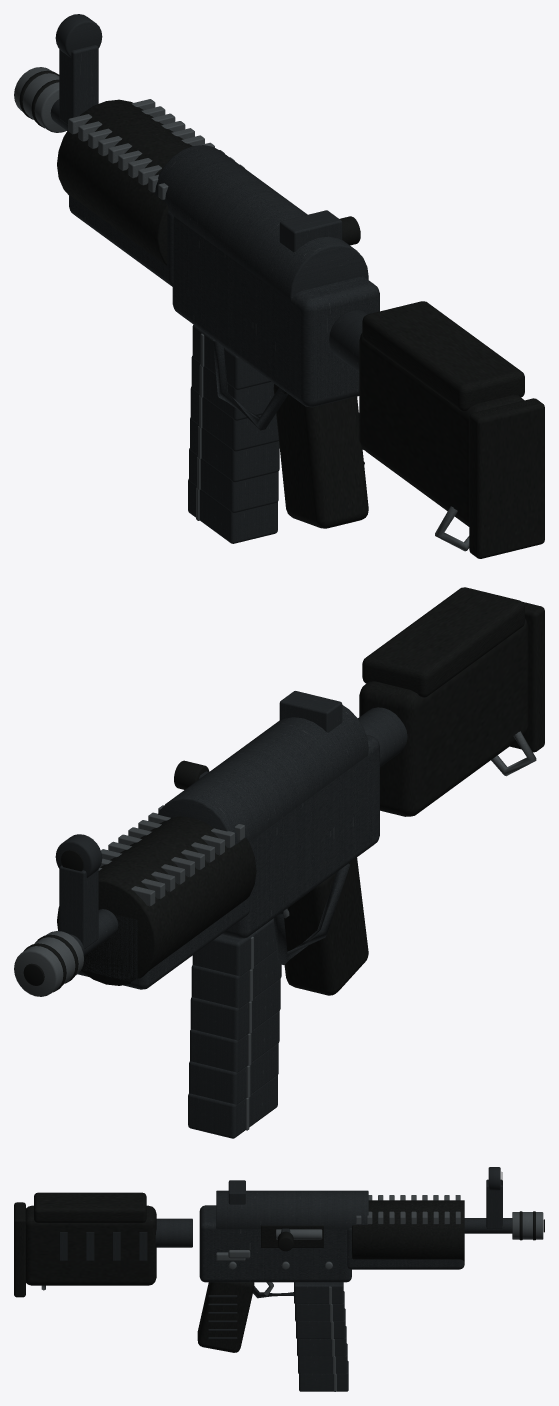
3 views of the same model, one above another, from view 1: azimuth 30°, elevation 25°; view 2: azimuth 150°, elevation 25°; view 3: azimuth 270°, elevation 25° (orthographic). The views are drawn at different scales.
Parts seen in each view (by area): view 1: weapon_Weapon finish / Parkerized steel, weapon_Polymer, weapon_Weapon finish / Polymer, magazine_Parkerized steel, weapon_Parkerized steel, weapon_Machined edges, magazine_Machined edges; view 2: weapon_Weapon finish / Parkerized steel, weapon_Polymer, weapon_Weapon finish / Polymer, magazine_Parkerized steel, weapon_Parkerized steel, weapon_Machined edges, magazine_Machined edges, bolt_Polymer; view 3: weapon_Weapon finish / Parkerized steel, weapon_Weapon finish / Polymer, weapon_Polymer, magazine_Parkerized steel, weapon_Parkerized steel, weapon_Machined edges, bolt_Machined edges, magazine_Machined edges.
Part boxes in pixels (left/top/right/bottom): weapon_Weapon finish / Parkerized steel: left=69, top=145, right=379, bottom=407; weapon_Polymer: left=19, top=70, right=544, bottom=558; weapon_Weapon finish / Polymer: left=359, top=301, right=524, bottom=526; magazine_Parkerized steel: left=188, top=324, right=279, bottom=543; weapon_Parkerized steel: left=50, top=14, right=367, bottom=464; weapon_Machined edges: left=14, top=67, right=469, bottom=551; magazine_Machined edges: left=196, top=333, right=204, bottom=520; weapon_Weapon finish / Parkerized steel: left=78, top=705, right=379, bottom=989; weapon_Polymer: left=23, top=601, right=544, bottom=995; weapon_Weapon finish / Polymer: left=359, top=587, right=528, bottom=816; magazine_Parkerized steel: left=188, top=918, right=281, bottom=1138; weapon_Parkerized steel: left=55, top=691, right=407, bottom=964; weapon_Machined edges: left=14, top=731, right=536, bottom=996; magazine_Machined edges: left=246, top=936, right=253, bottom=1130; bolt_Polymer: left=174, top=760, right=209, bottom=789; weapon_Weapon finish / Parkerized steel: left=199, top=1190, right=464, bottom=1282; weapon_Weapon finish / Polymer: left=26, top=1192, right=156, bottom=1285; weapon_Polymer: left=14, top=1172, right=544, bottom=1352; magazine_Parkerized steel: left=294, top=1282, right=348, bottom=1391; weapon_Parkerized steel: left=59, top=1167, right=512, bottom=1339; weapon_Machined edges: left=41, top=1195, right=543, bottom=1290; bolt_Machined edges: left=276, top=1229, right=322, bottom=1239; magazine_Machined edges: left=329, top=1286, right=336, bottom=1391.
Size of the model in its own units: 0.1329 by 0.3625 by 0.801.
5 materials, 5 textured.
